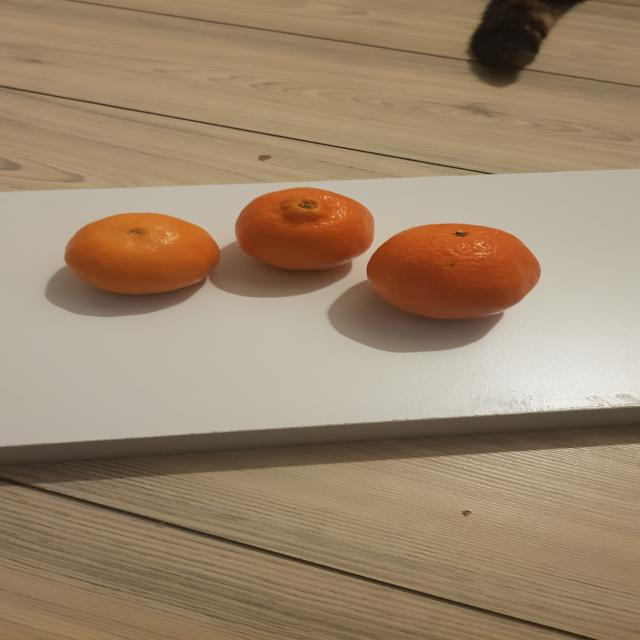Orange: (365, 224, 542, 322), (63, 213, 220, 297), (234, 188, 374, 273)
